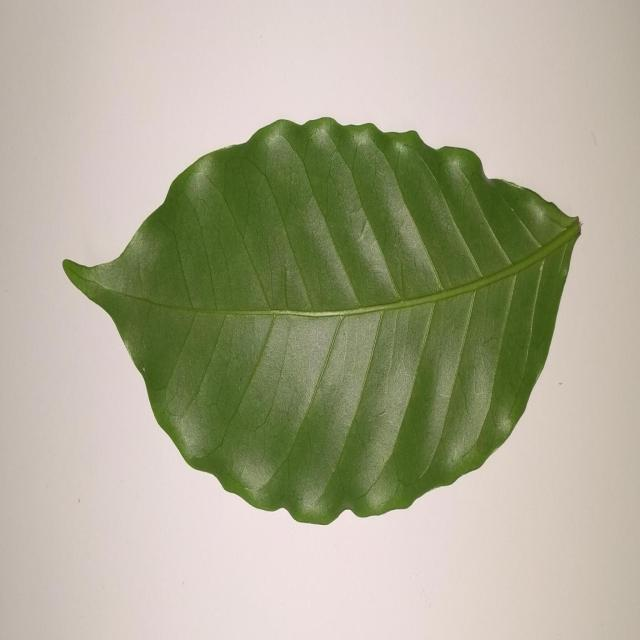Sanas: (61, 118, 581, 529)
